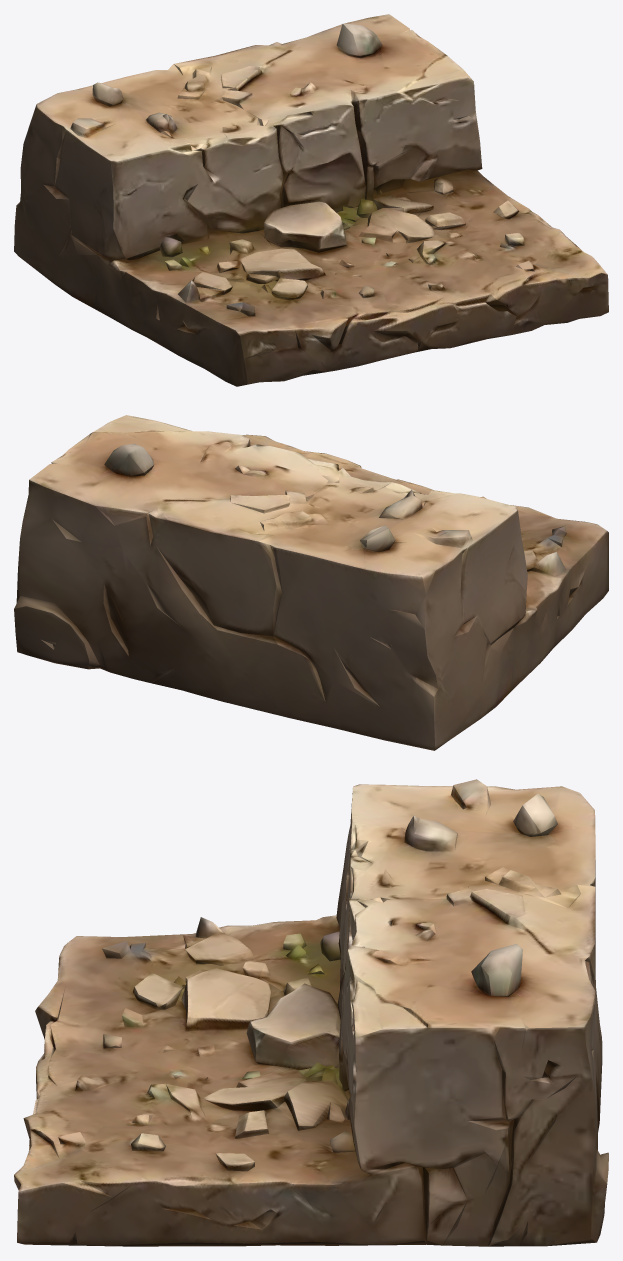
Rendered from m2CaveSlabPlatform.glb.
3 views of the same model, one above another, from view 1: azimuth 30°, elevation 25°; view 2: azimuth 150°, elevation 25°; view 3: azimuth 270°, elevation 25° (orthographic). The views are drawn at different scales.
Visible parts, largest first — view 1: model; view 2: model; view 3: model.
Boxes of the visible parts, x1,y1,x2,y2 form: model: (14,14,608,386); model: (14,415,608,750); model: (14,779,608,1246).
Bounding box in the file's own units: 1.89 × 0.8421 × 1.83.
Materials: 1 (1 with a texture image).
